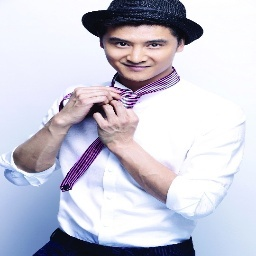noWear: (100, 30, 185, 81)
